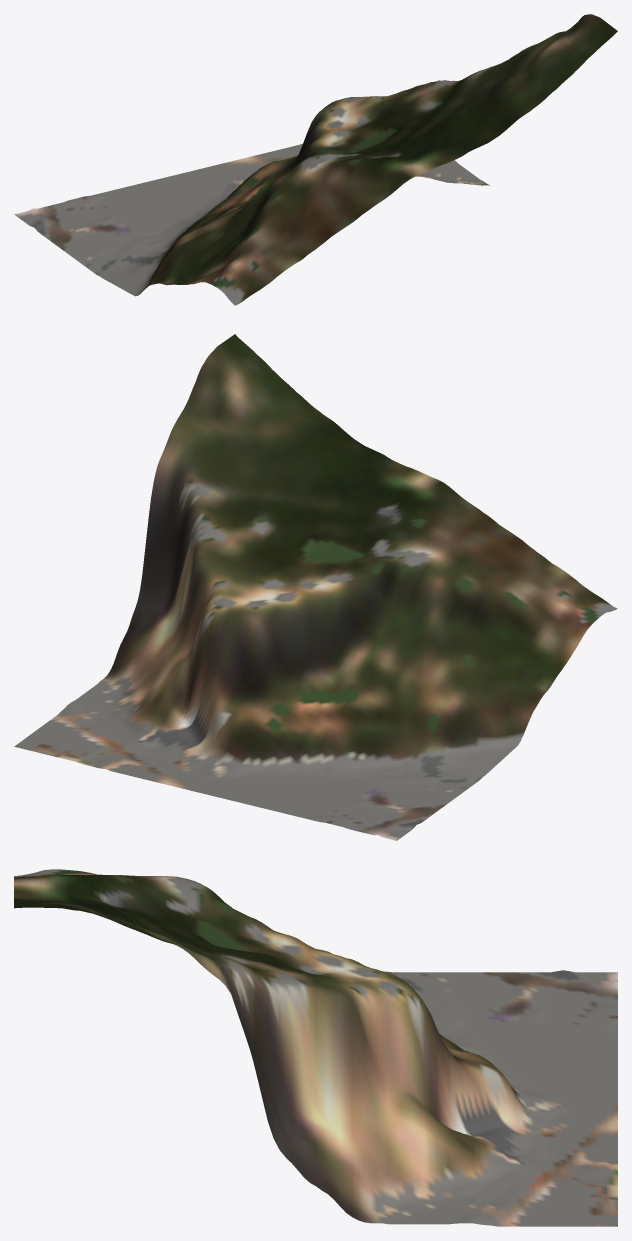
The model's file is terrain.glb.
3 renders of one model, top to bottom at view 1: azimuth 30°, elevation 25°; view 2: azimuth 150°, elevation 25°; view 3: azimuth 270°, elevation 25°, orthographic. The views are drawn at different scales.
Parts seen in each view (by area): view 1: T_E0_N3_terrain; view 2: T_E0_N3_terrain; view 3: T_E0_N3_terrain.
Boxes of the visible parts, bbox=[...] form: T_E0_N3_terrain: bbox=[14, 14, 617, 305]; T_E0_N3_terrain: bbox=[14, 334, 617, 840]; T_E0_N3_terrain: bbox=[14, 869, 617, 1226].
Size of the model in its own units: 500 by 315 by 500.
